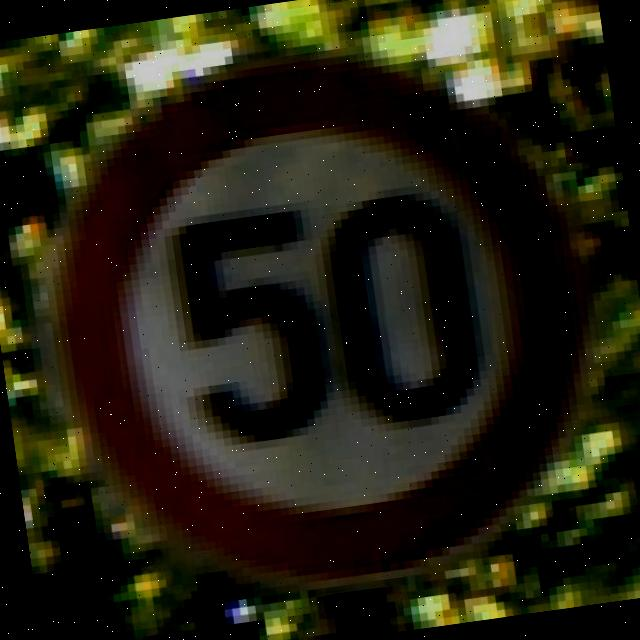Ograniczenie predkosci do 50: (38, 25, 612, 612)
